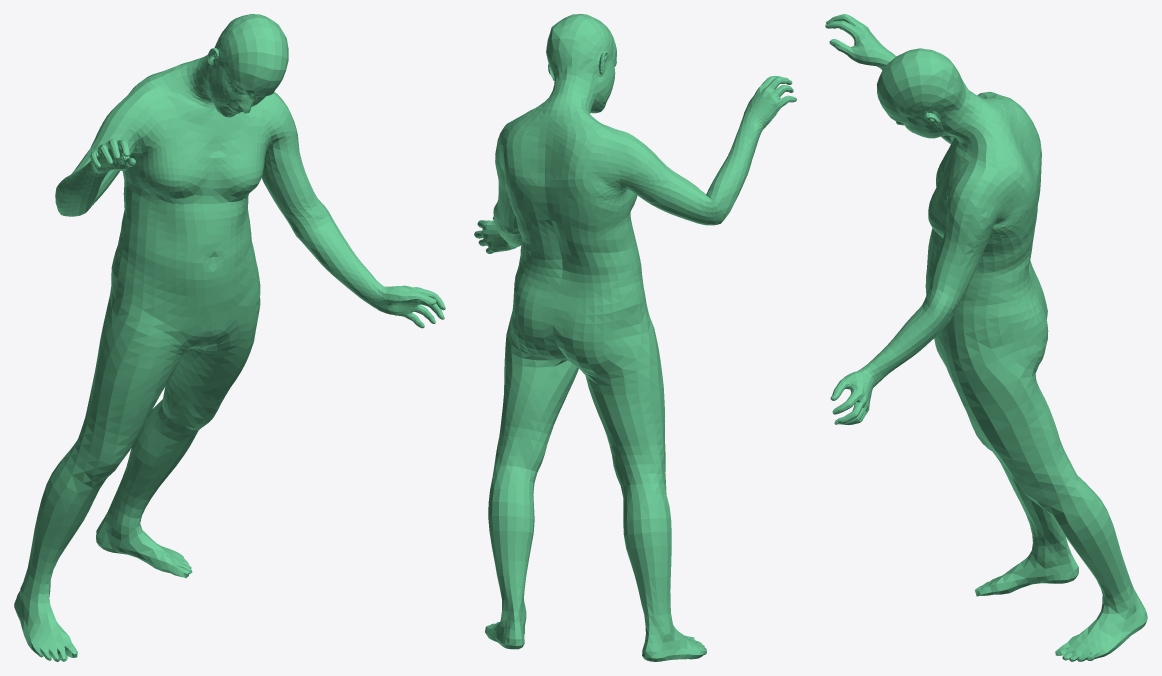
The model's file is hwc_free_06.glb.
The picture shows the model from 3 angles, left to right: view 1: azimuth 30°, elevation 25°; view 2: azimuth 150°, elevation 25°; view 3: azimuth 270°, elevation 25°; orthographic projection. The views are drawn at different scales.
Visible parts, largest first — view 1: hwc_free; view 2: hwc_free; view 3: hwc_free.
Boxes of the visible parts, bbox=[...] form: hwc_free: bbox=[14, 14, 445, 661]; hwc_free: bbox=[474, 14, 796, 661]; hwc_free: bbox=[825, 14, 1147, 661].
Bounding box in the file's own units: 0.9325 × 1.61 × 0.7599.
